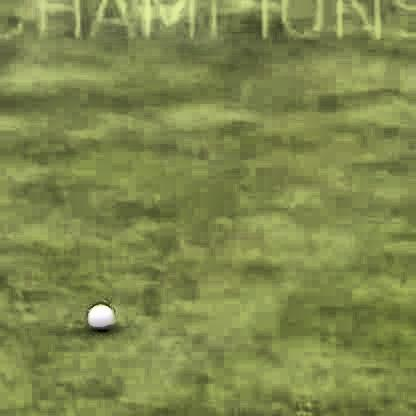golfball: (83, 298, 114, 329)
